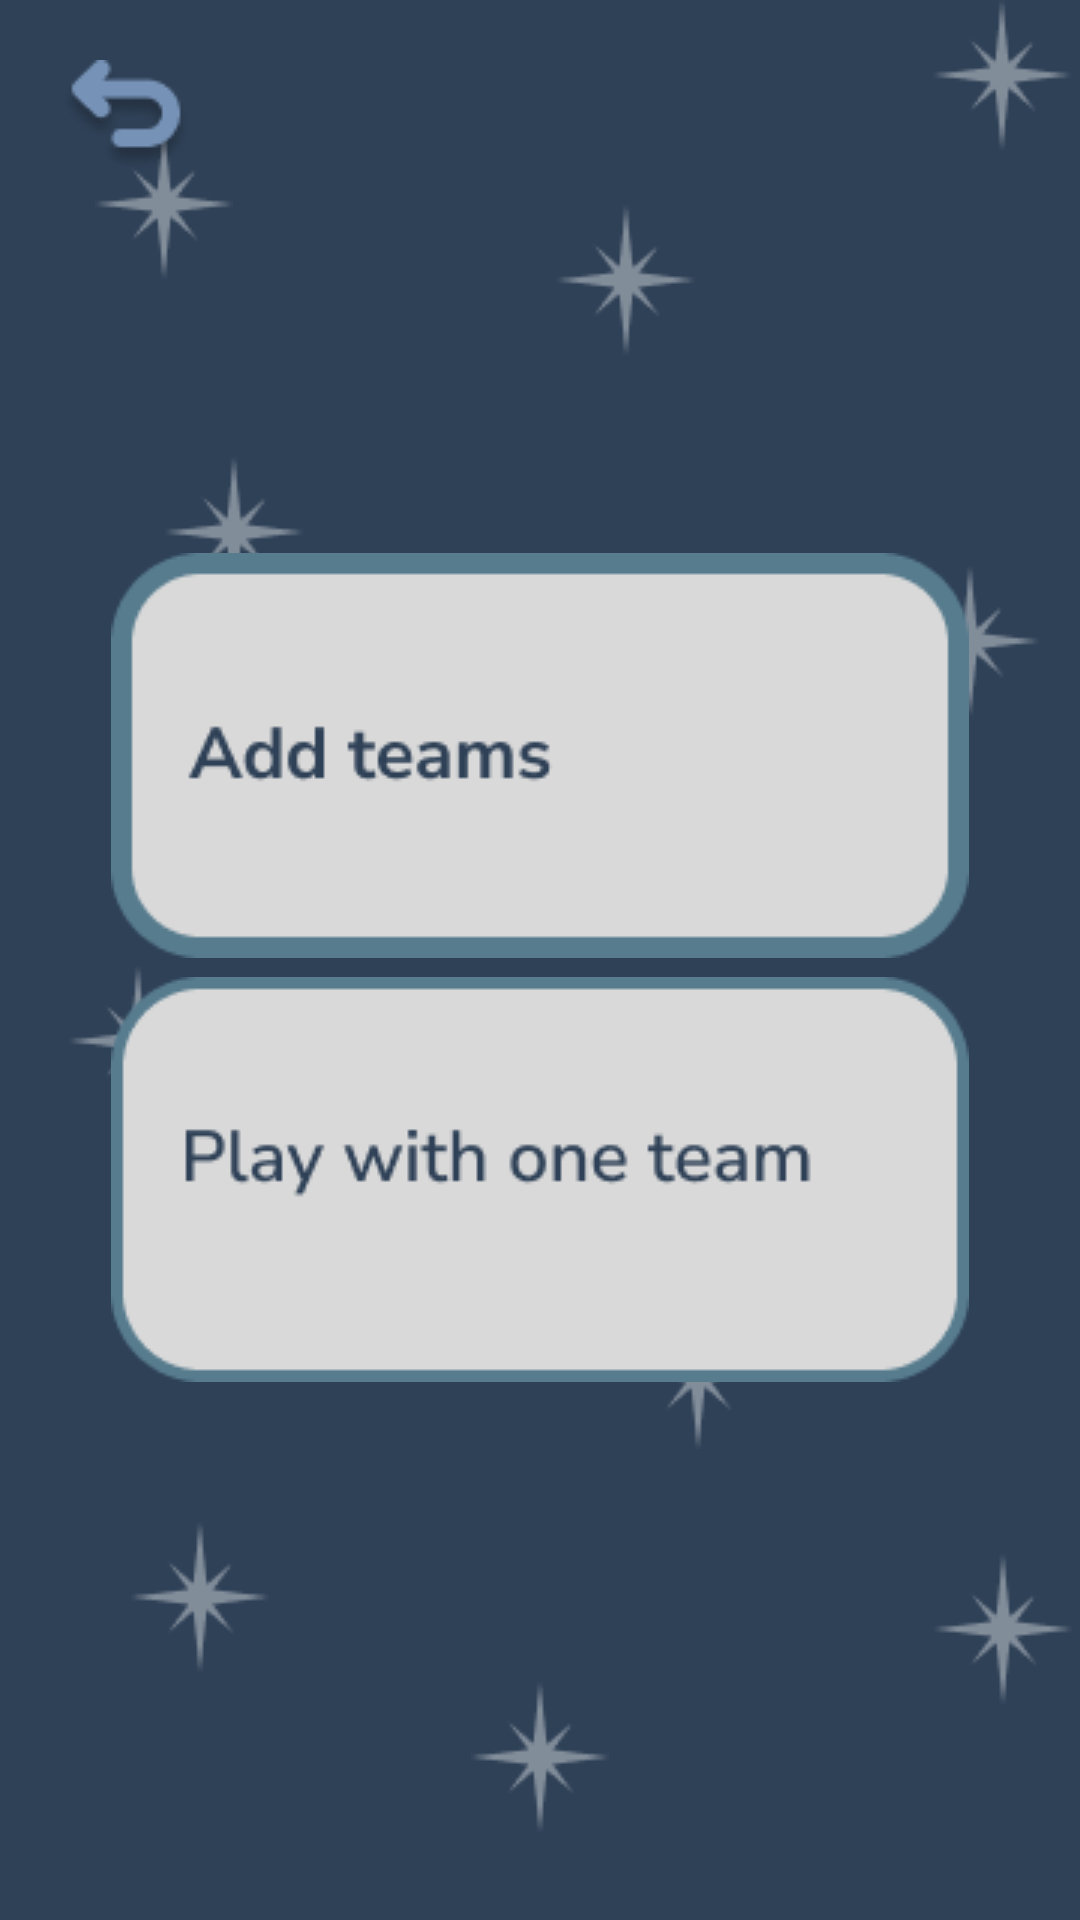

Icons on this 1080px x 1920px Android screen, each with the point to tap as [x,y]:
back: [126,115]
